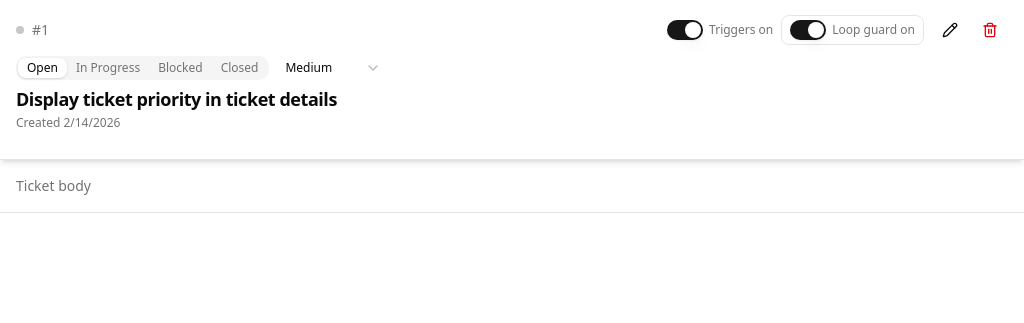
TicketDetail header behavior › renders mode-specific action controls
Expected: the button named "Delete ticket" is shown, [972,12,1008,48]
Expected: the button "Cancel" is not shown
Click the button named "Edit ticket" at (950, 30), box [932,12,968,48]
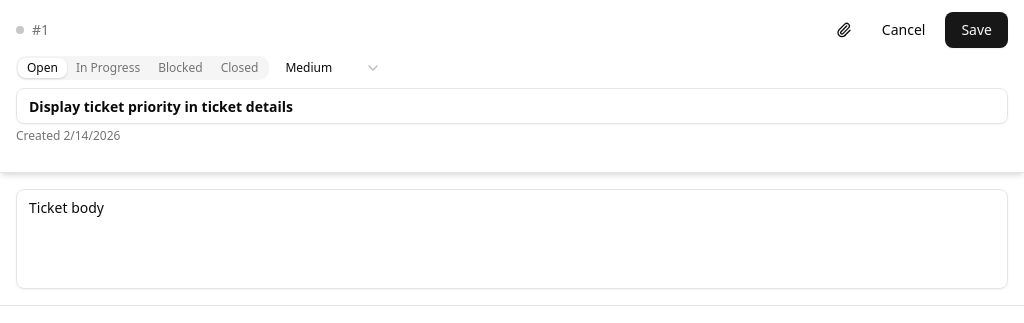
Result: the button named "Attach files" is shown at [826,12,862,48]
Result: the button "Cancel" is shown at [866,12,941,48]
Result: the button "Save" is shown at [945,12,1008,48]
